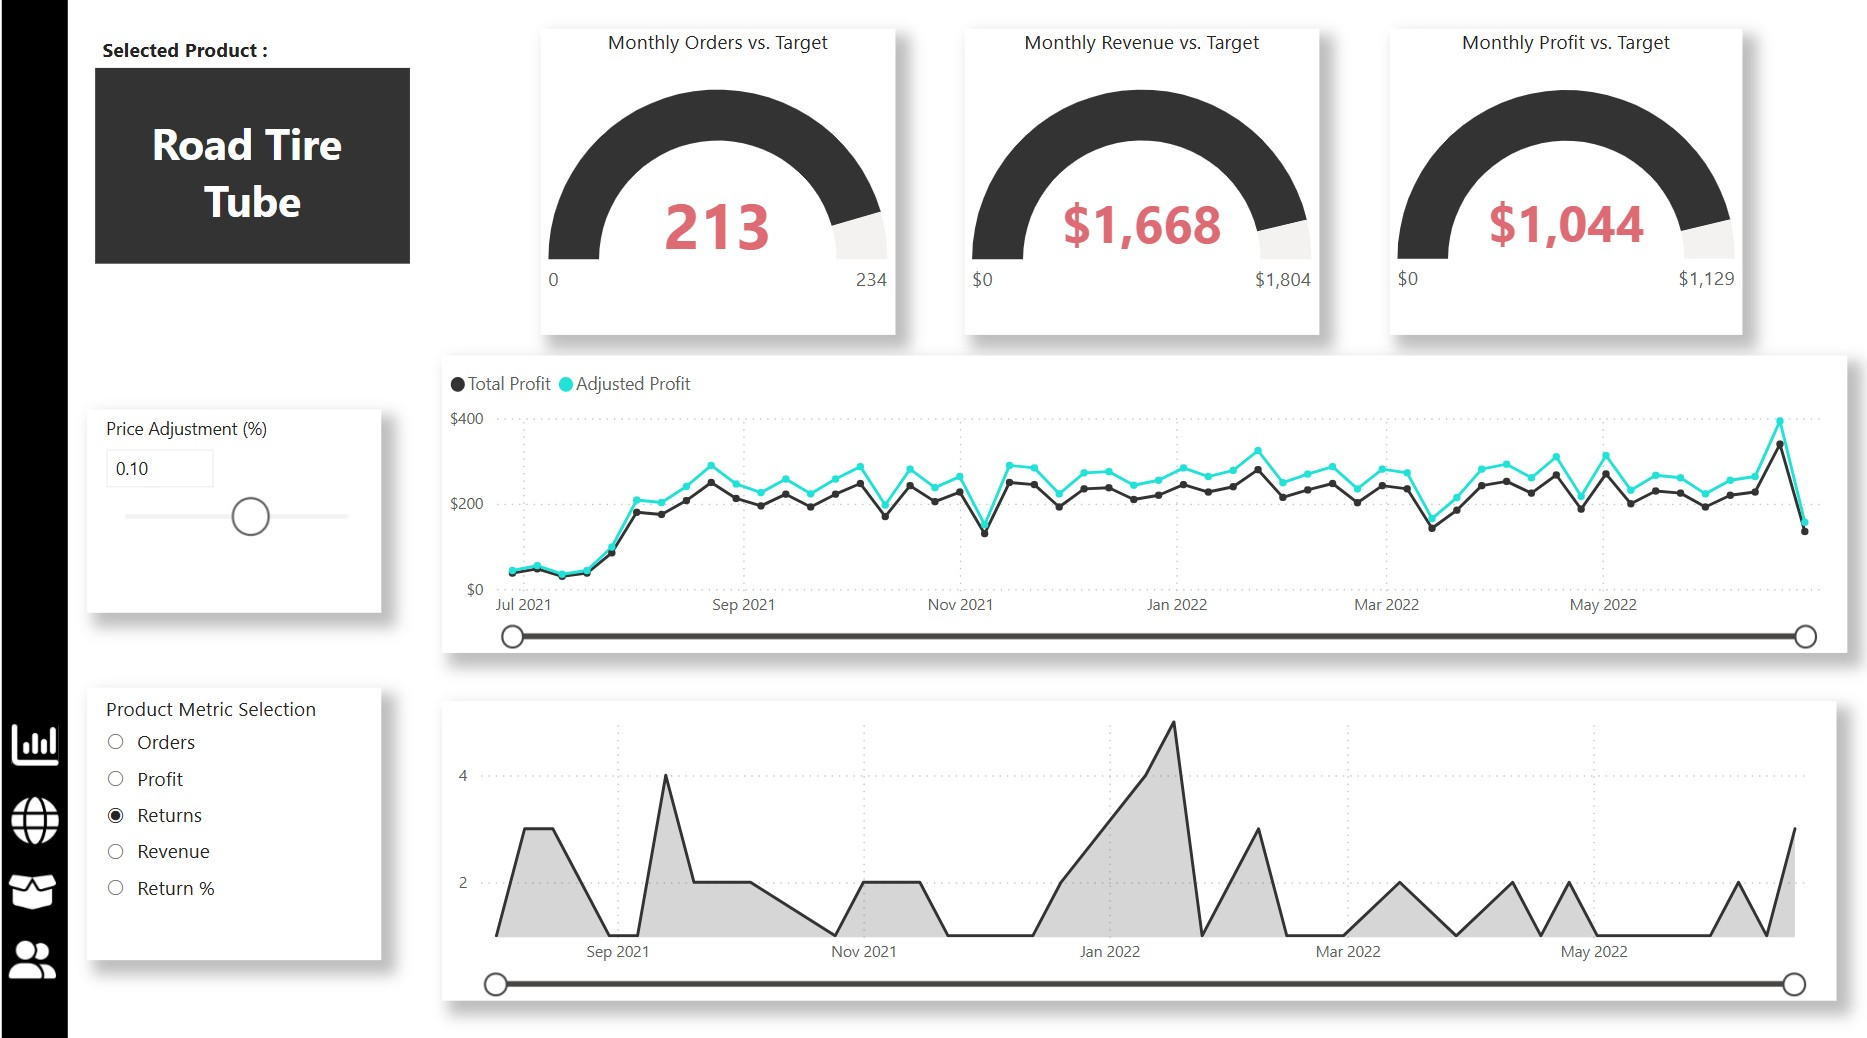

This screenshot's page, from the dashboard's own definition file:
{"tool":"powerbi","page":{"name":"Products Details","canvas":[1280,720],"ordinal":2},"visuals":[{"type":"shape","box":[0,0,44.9,720.5],"z":0},{"type":"actionButton","box":[2.6,493.5,82.2,40.4],"z":1000,"group":"g1"},{"type":"gauge","title":"Monthly Orders vs. Target ","fields":{"Y":["Measure Table.Total Orders"],"MaxValue":["Measure Table.Order Target"]},"box":[368.4,23.2,242.7,209.8],"z":1000},{"type":"gauge","title":"Monthly Revenue vs. Target ","fields":{"Y":["Measure Table.Total Revenue"],"MaxValue":["Measure Table.Target Revenue"]},"box":[658.7,23.2,242.7,209.8],"z":2000},{"type":"actionButton","box":[2.5,545.2,82.2,40.4],"z":2000,"group":"g1"},{"type":"gauge","title":"Monthly Profit vs. Target ","fields":{"Y":["Measure Table.Total Profit"],"MaxValue":["Measure Table.Profit Target"]},"box":[950.2,23.2,241.5,209.8],"z":3000},{"type":"actionButton","box":[1,594.5,100.2,40.4],"z":3000,"group":"g1"},{"type":"actionButton","box":[1,640.9,100.2,40.4],"z":4000,"group":"g1"},{"type":"lineChart","title":"Profit Trending ","fields":{"Category":["Calendar Lookup.Date Hierarchy.Start of Year","Calendar Lookup.Date Hierarchy.Start of Month","Calendar Lookup.Date Hierarchy.Start of Week","Calendar Lookup.Date Hierarchy.Date"],"Y":["Measure Table.Total Profit","Measure Table.Adjusted Profit"]},"box":[301.3,246.4,962.4,203.7],"z":4000},{"type":"areaChart","title":"Return Trending ","fields":{"Y":["Measure Table.Total Returns"],"Category":["Calendar Lookup.Date Hierarchy.Start of Year","Calendar Lookup.Date Hierarchy.Start of Month","Calendar Lookup.Date Hierarchy.Start of Week","Calendar Lookup.Date Hierarchy.Date"]},"box":[301.3,483.1,955.1,204.9],"z":5000},{"type":"card","fields":{"Values":["Min(Product Lookup.ProductName)"]},"box":[63.6,49.8,215.7,134.1],"z":6000},{"type":"textbox","box":[63.6,23.5,237.8,45.6],"z":7000},{"type":"group","id":"g1","title":"Navigation Buttons","box":[1,493.5,100.2,187.7],"z":8000},{"type":"slicer","fields":{"Values":["Price Adjustment (%).Price Adjustment (%)"]},"box":[58.6,284.2,201.3,139.1],"z":9000},{"type":"slicer","fields":{"Values":["Product Metric Selection .Product Metric Selection "]},"box":[58.6,474.5,201.3,186.6],"z":10000}]}

Visuals, with their boxes on the page's 1280x720 design canvas (x1, y1, x2, y2). These are canvas units, not pixel positions in the 1867x1038 screenshot, which may show the page scaled, cropped or inside an application window:
shape: [x1=0, y1=0, x2=45, y2=720]
actionButton: [x1=3, y1=494, x2=85, y2=534]
"Monthly Orders vs. Target " gauge: [x1=368, y1=23, x2=611, y2=233]
"Monthly Revenue vs. Target " gauge: [x1=659, y1=23, x2=901, y2=233]
actionButton: [x1=2, y1=545, x2=85, y2=586]
"Monthly Profit vs. Target " gauge: [x1=950, y1=23, x2=1192, y2=233]
actionButton: [x1=1, y1=594, x2=101, y2=635]
actionButton: [x1=1, y1=641, x2=101, y2=681]
"Profit Trending " lineChart: [x1=301, y1=246, x2=1264, y2=450]
"Return Trending " areaChart: [x1=301, y1=483, x2=1256, y2=688]
card - Min(Product Lookup.ProductName): [x1=64, y1=50, x2=279, y2=184]
textbox: [x1=64, y1=24, x2=301, y2=69]
"Navigation Buttons" group: [x1=1, y1=494, x2=101, y2=681]
slicer - Price Adjustment (%).Price Adjustment (%): [x1=59, y1=284, x2=260, y2=423]
slicer - Product Metric Selection .Product Metric Selection : [x1=59, y1=474, x2=260, y2=661]
